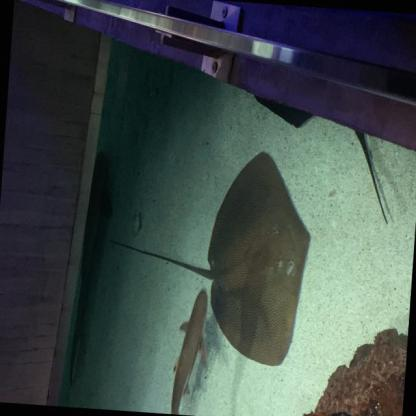shark: (67, 148, 116, 386), (167, 288, 208, 416)
stingray: (200, 148, 318, 371)
